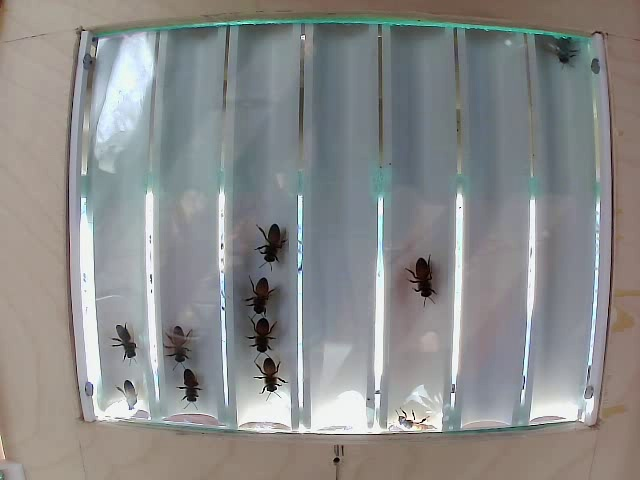bee: (399, 253, 437, 304), (109, 366, 150, 408), (248, 219, 295, 255), (245, 311, 284, 349), (156, 328, 197, 364), (114, 327, 158, 358), (239, 273, 284, 302), (173, 369, 207, 399), (255, 358, 287, 387)
